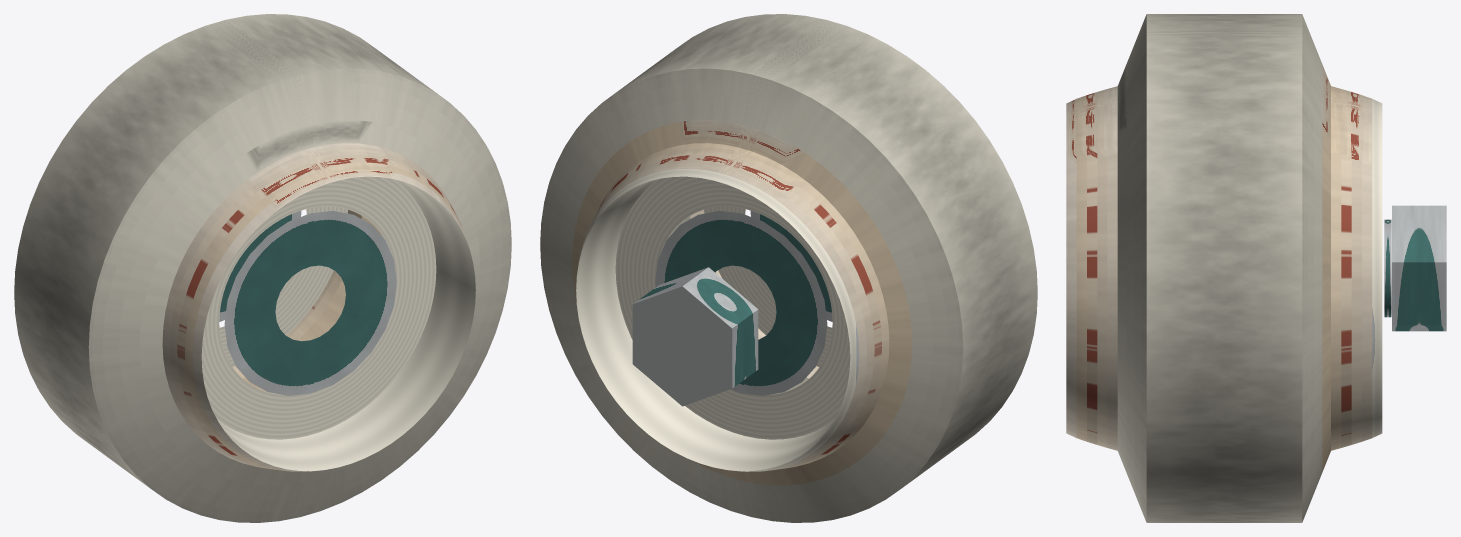
The model's file is sk8_wheel_street_54_classic.glb.
3 renders of one model, left to right at view 1: azimuth 30°, elevation 25°; view 2: azimuth 150°, elevation 25°; view 3: azimuth 270°, elevation 25°, orthographic. The views are drawn at different scales.
Visible parts, largest first — view 1: SM_Wheel_street_54; view 2: SM_Wheel_street_54; view 3: SM_Wheel_street_54.
Part boxes in pixels (left/top/right/bottom): SM_Wheel_street_54: left=14, top=14, right=511, bottom=522; SM_Wheel_street_54: left=540, top=14, right=1037, bottom=522; SM_Wheel_street_54: left=1066, top=14, right=1446, bottom=522.
Size of what is drawn, in the model's own units: 0.054 by 0.054 by 0.0403.
Materials: 1 (1 with a texture image).
